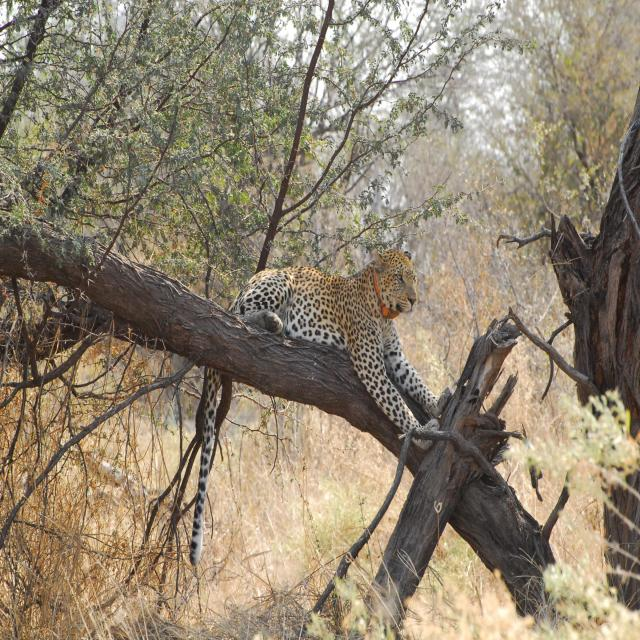Leopard: (162, 242, 436, 565)
